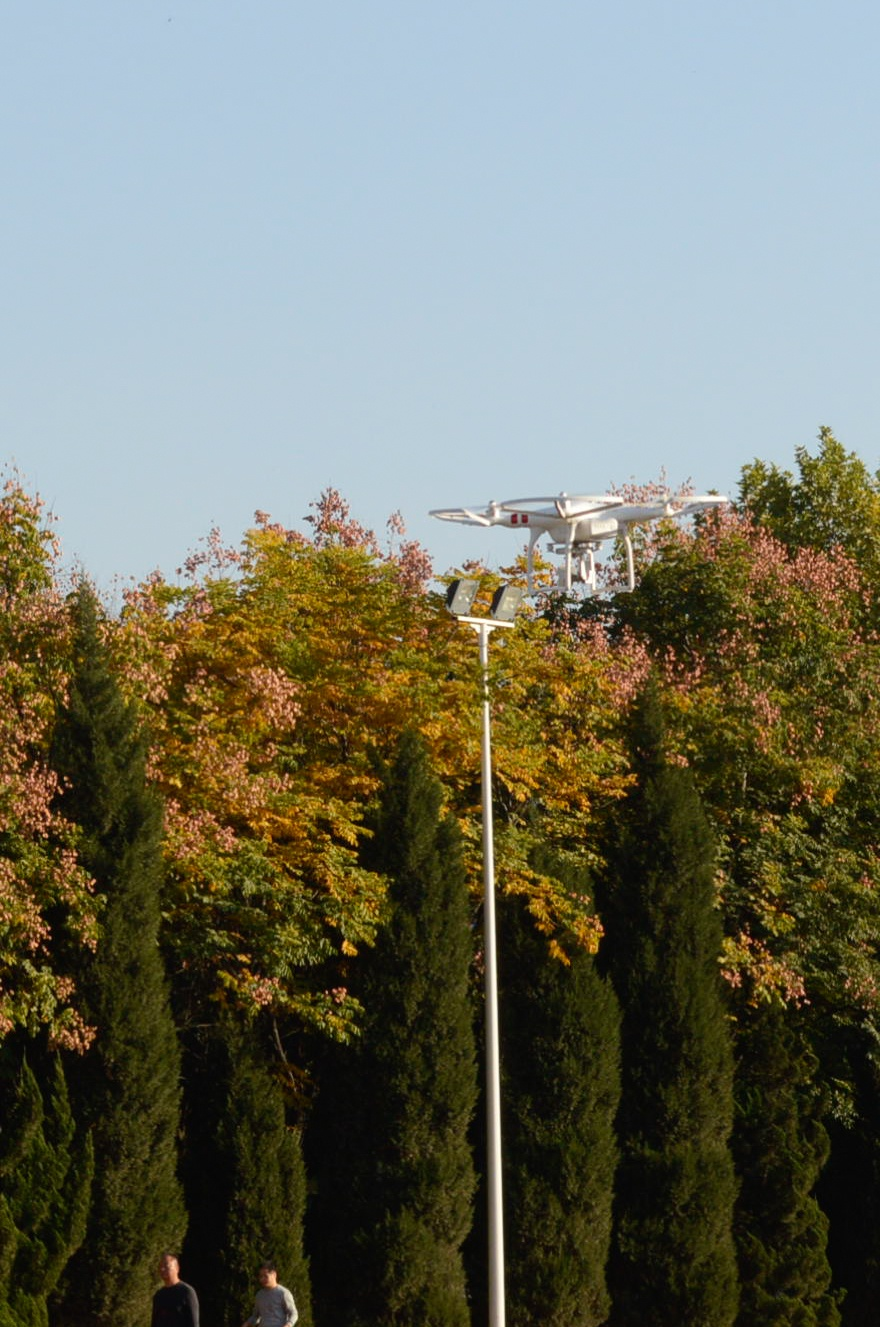DJI: (429, 487, 734, 596)
